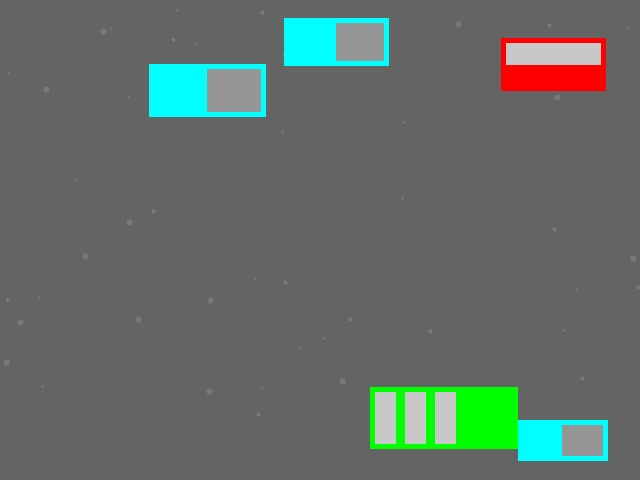bus: (370, 387, 517, 448)
car: (501, 38, 605, 90)
truck: (149, 64, 265, 116), (284, 18, 388, 65), (518, 420, 607, 460)
